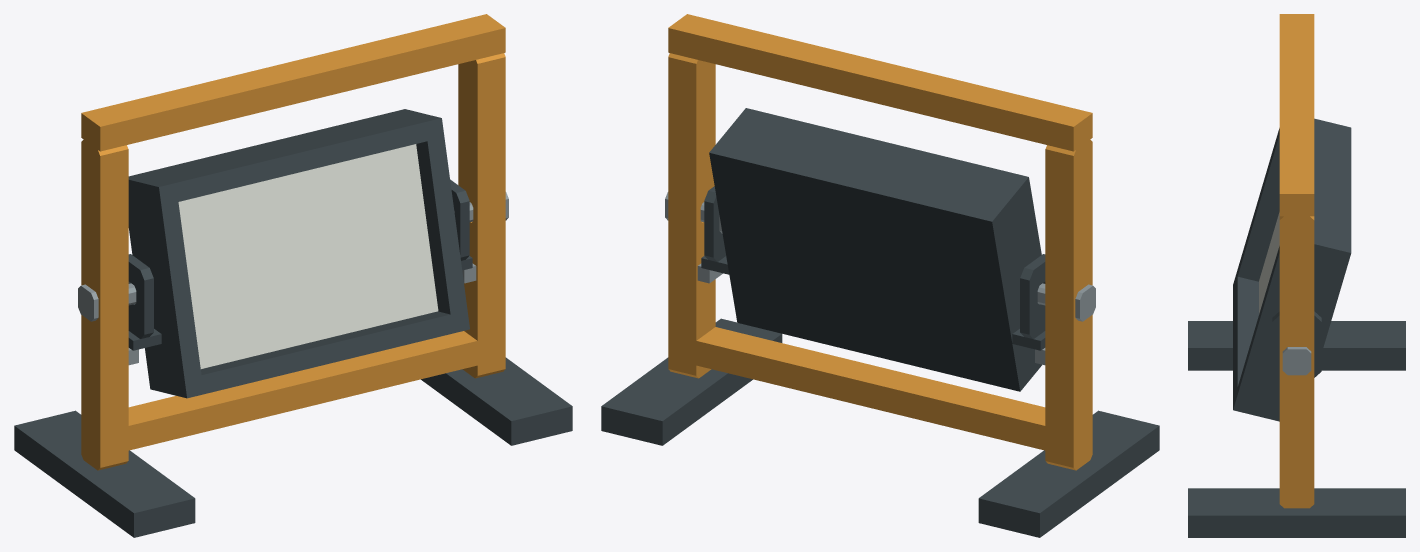
3 views of the same model, side by side, from view 1: azimuth 30°, elevation 25°; view 2: azimuth 150°, elevation 25°; view 3: azimuth 270°, elevation 25° (orthographic). The views are drawn at different scales.
Parts seen in each view (by area): view 1: Opaque_NonEmittingFrontPanel, Shallow_SteppedHousing, FullWidth_TopCarryBar, Left_BoredFrameUpright, Low_ContinuousFrameTie, Right_BoredFrameUpright, Left_WideGroundRunner, Right_WideGroundRunner, Left_HousingBoredEar, Right_HousingBoredEar, Left_ContinuousCappedPin; view 2: Shallow_SteppedHousing, FullWidth_TopCarryBar, Low_ContinuousFrameTie, Left_BoredFrameUpright, Right_BoredFrameUpright, Left_WideGroundRunner, Right_WideGroundRunner, Left_HousingBoredEar, Right_HousingBoredEar, Left_ContinuousCappedPin; view 3: Shallow_SteppedHousing, Right_WideGroundRunner, Right_BoredFrameUpright, FullWidth_TopCarryBar, Left_WideGroundRunner, Right_HousingBoredEar, Right_ContinuousCappedPin, Opaque_NonEmittingFrontPanel.
Part boxes in pixels (left/top/right/bottom): Opaque_NonEmittingFrontPanel: left=178, top=144, right=438, bottom=368; Shallow_SteppedHousing: left=128, top=109, right=469, bottom=398; FullWidth_TopCarryBar: left=81, top=14, right=505, bottom=151; Left_BoredFrameUpright: left=81, top=139, right=128, bottom=470; Low_ContinuousFrameTie: left=128, top=331, right=477, bottom=450; Right_BoredFrameUpright: left=458, top=53, right=505, bottom=378; Left_WideGroundRunner: left=14, top=410, right=195, bottom=537; Right_WideGroundRunner: left=421, top=357, right=572, bottom=445; Left_HousingBoredEar: left=128, top=254, right=153, bottom=338; Right_HousingBoredEar: left=450, top=179, right=469, bottom=260; Left_ContinuousCappedPin: left=78, top=283, right=136, bottom=321; Shallow_SteppedHousing: left=709, top=108, right=1041, bottom=391; FullWidth_TopCarryBar: left=668, top=14, right=1092, bottom=151; Low_ContinuousFrameTie: left=696, top=327, right=1045, bottom=450; Left_BoredFrameUpright: left=1045, top=139, right=1092, bottom=470; Right_BoredFrameUpright: left=668, top=53, right=715, bottom=378; Left_WideGroundRunner: left=978, top=410, right=1159, bottom=537; Right_WideGroundRunner: left=601, top=318, right=782, bottom=445; Left_HousingBoredEar: left=1020, top=254, right=1045, bottom=338; Right_HousingBoredEar: left=704, top=186, right=726, bottom=261; Left_ContinuousCappedPin: left=1037, top=283, right=1095, bottom=321; Shallow_SteppedHousing: left=1233, top=118, right=1351, bottom=421; Right_WideGroundRunner: left=1188, top=488, right=1405, bottom=537; Right_BoredFrameUpright: left=1279, top=216, right=1314, bottom=508; FullWidth_TopCarryBar: left=1279, top=14, right=1314, bottom=216; Left_WideGroundRunner: left=1188, top=321, right=1405, bottom=370; Right_HousingBoredEar: left=1272, top=311, right=1321, bottom=377; Right_ContinuousCappedPin: left=1282, top=347, right=1311, bottom=375; Opaque_NonEmittingFrontPanel: left=1259, top=212, right=1279, bottom=314.
Size of the model in its own units: 0.93 by 0.75 by 0.44.
